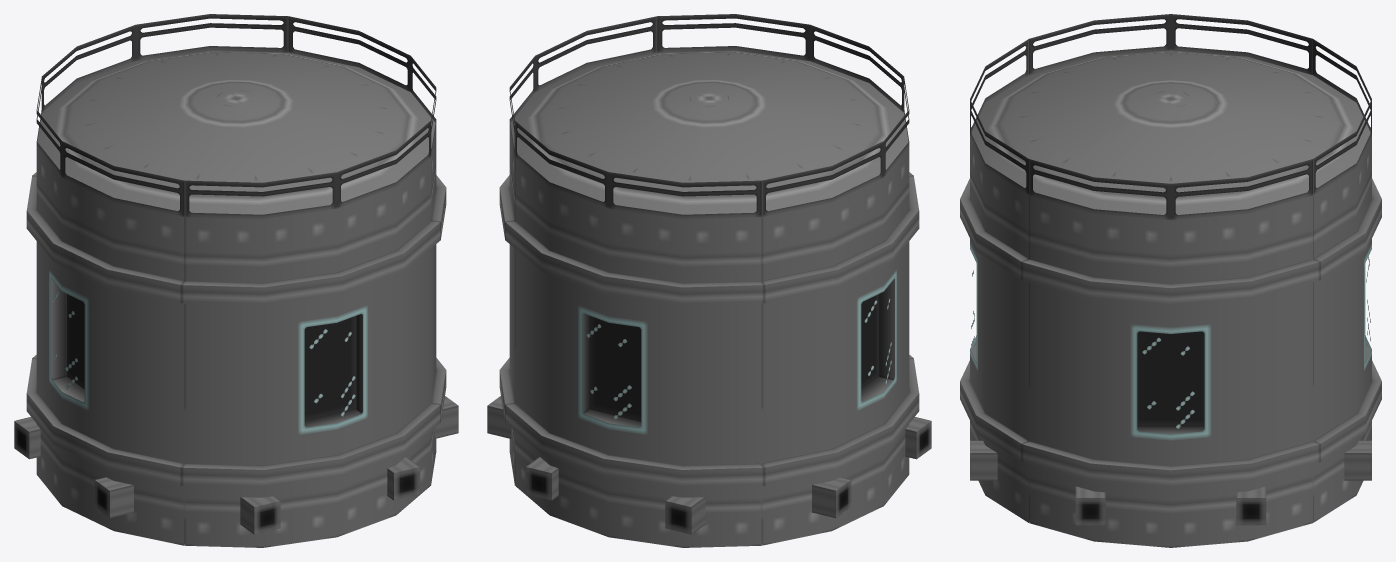
File: bat9000.obj
The picture shows the model from 3 angles, left to right: view 1: azimuth 30°, elevation 25°; view 2: azimuth 150°, elevation 25°; view 3: azimuth 270°, elevation 25°; orthographic projection.
Visible parts, largest first — view 1: Circle; view 2: Circle; view 3: Circle.
Part boxes in pixels (<box>): Circle: <box>14,14,458,547</box>; Circle: <box>487,14,931,547</box>; Circle: <box>960,14,1381,547</box>.
Size of the model in its own units: 5.25 by 5 by 5.25.
